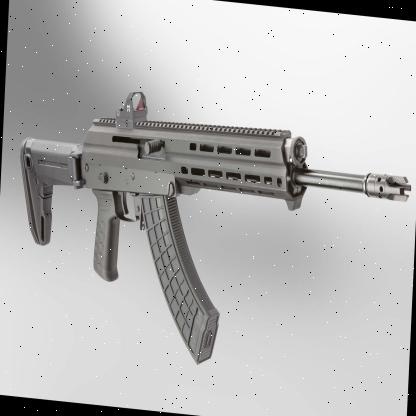rifle: (5, 91, 415, 377)
